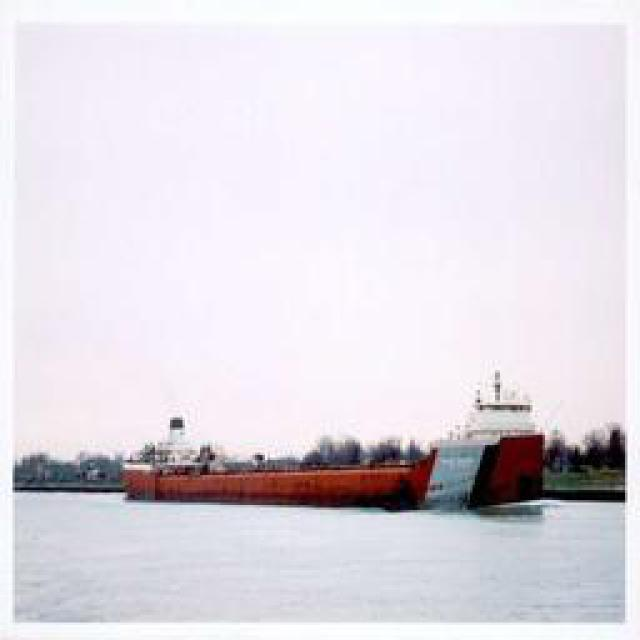Ship: (126, 444, 446, 507)
